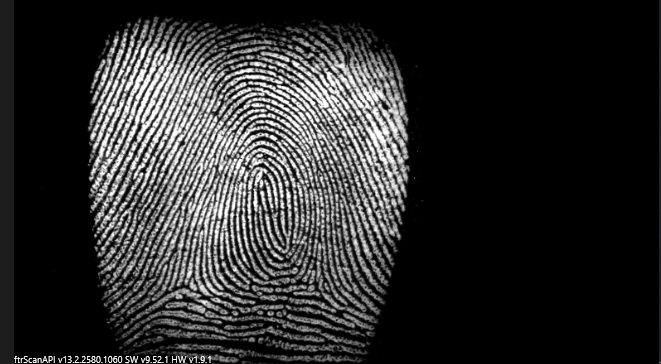deltas: (155, 255, 209, 307), (291, 261, 342, 309)
nucleo: (242, 146, 292, 201)
